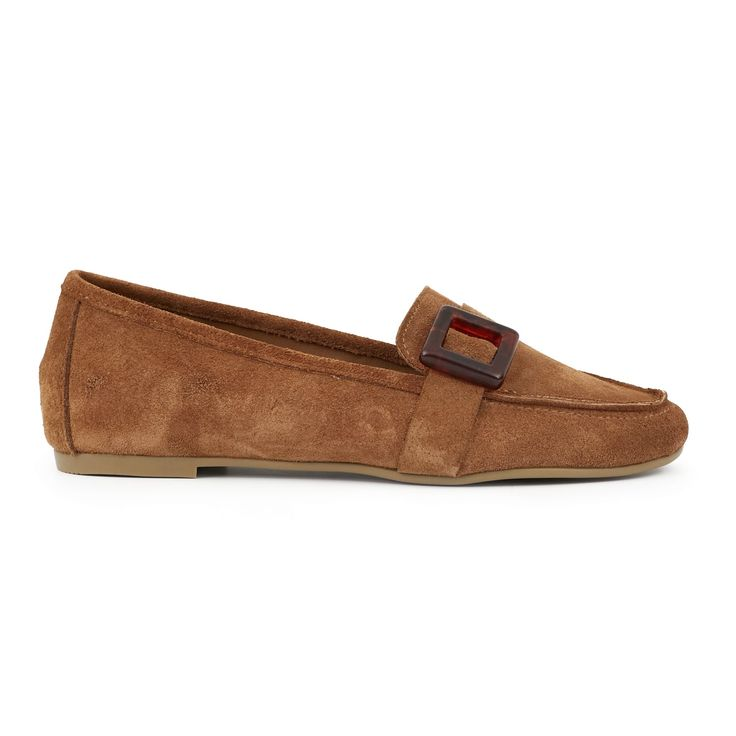gamuza: (37, 269, 688, 477)
